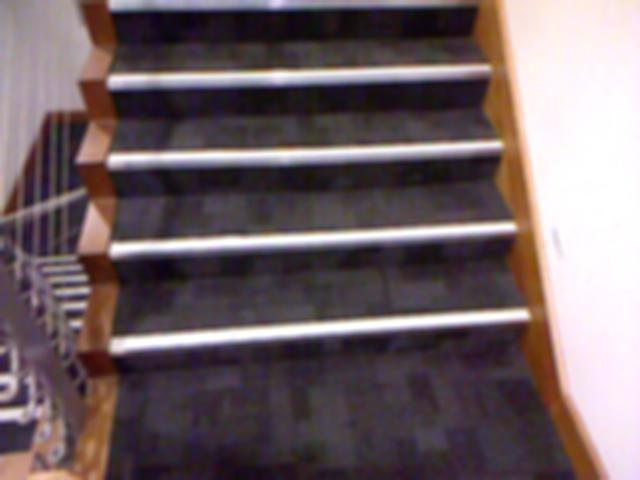Escaleras: (63, 0, 550, 358), (0, 253, 84, 479)
